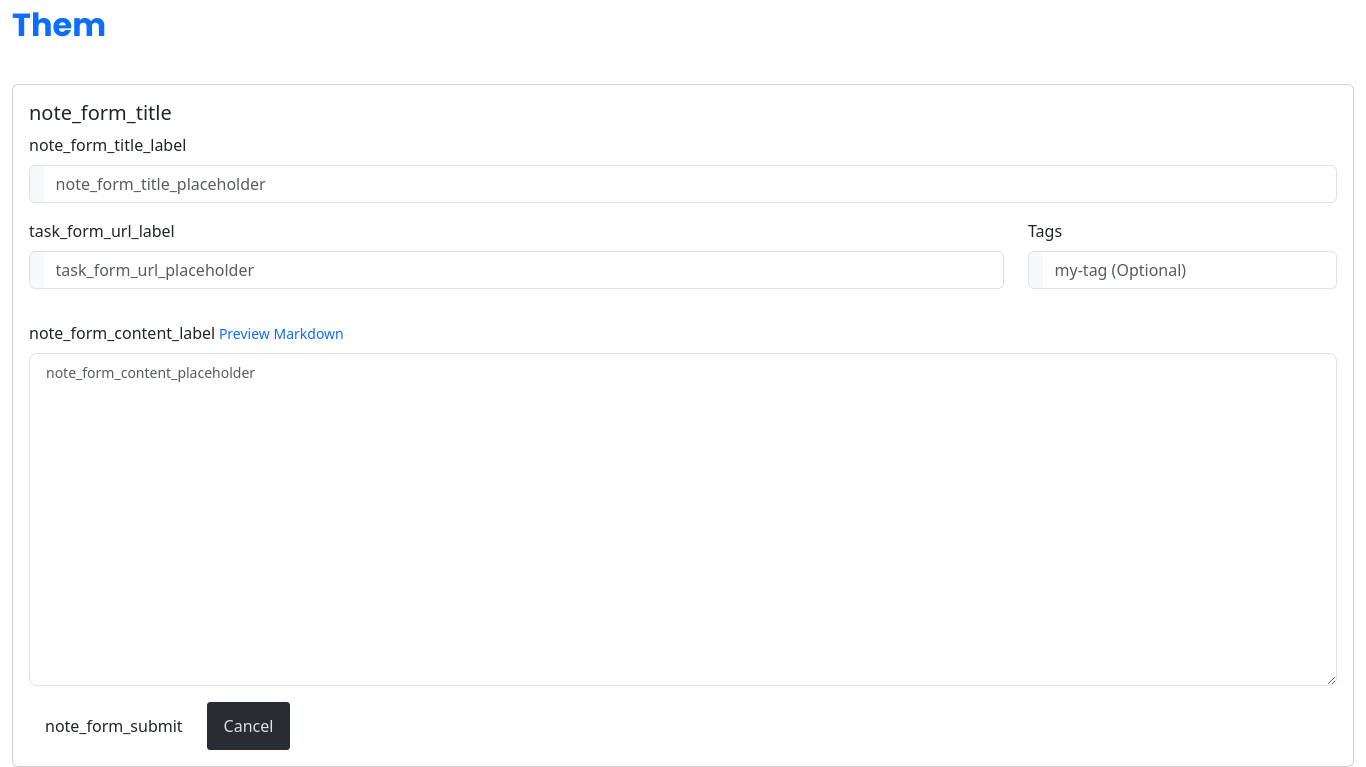
Test: NoteAdd Component › should show error message when form is invalid
(page scrolled)
Click the button "note_form_submit" at (114, 726), box [29,702,199,750]
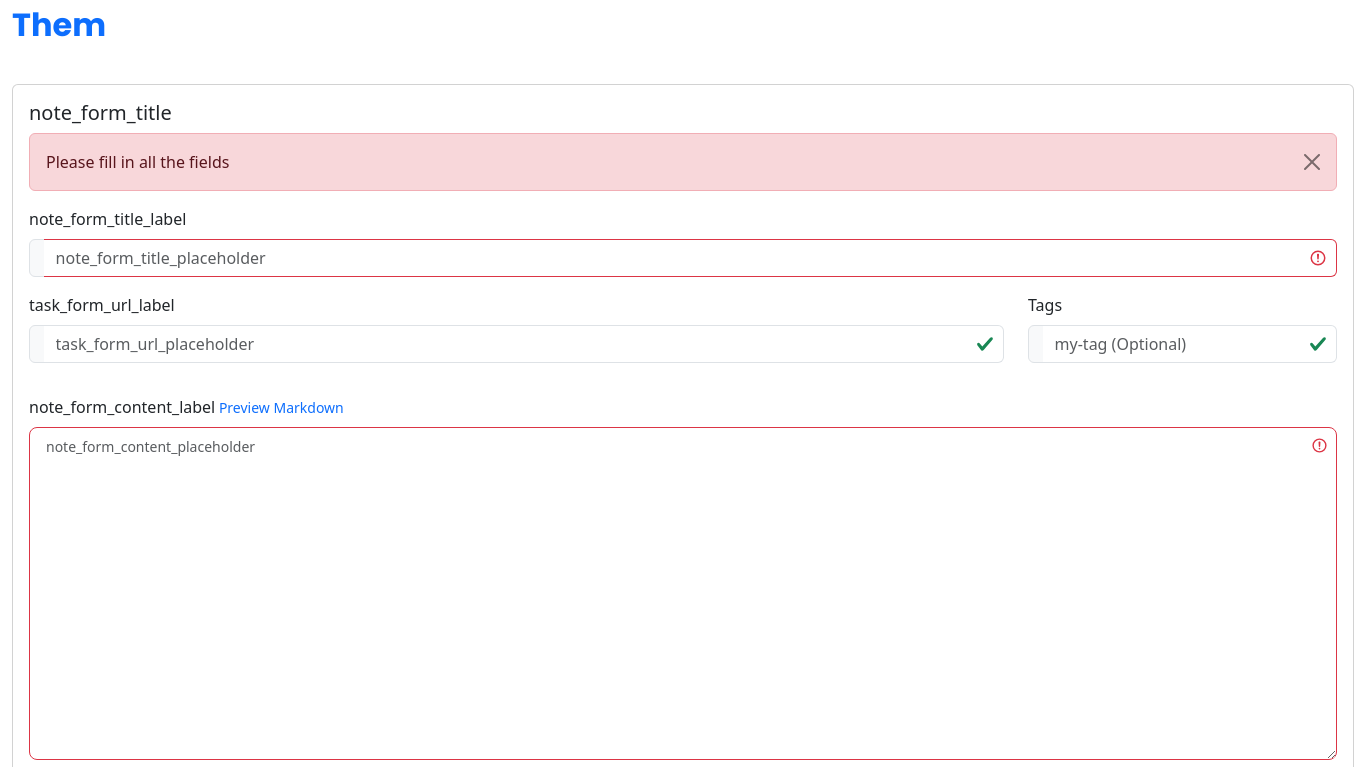
Now the text "Please fill in all the fields" is shown, box [29,133,1337,191]
